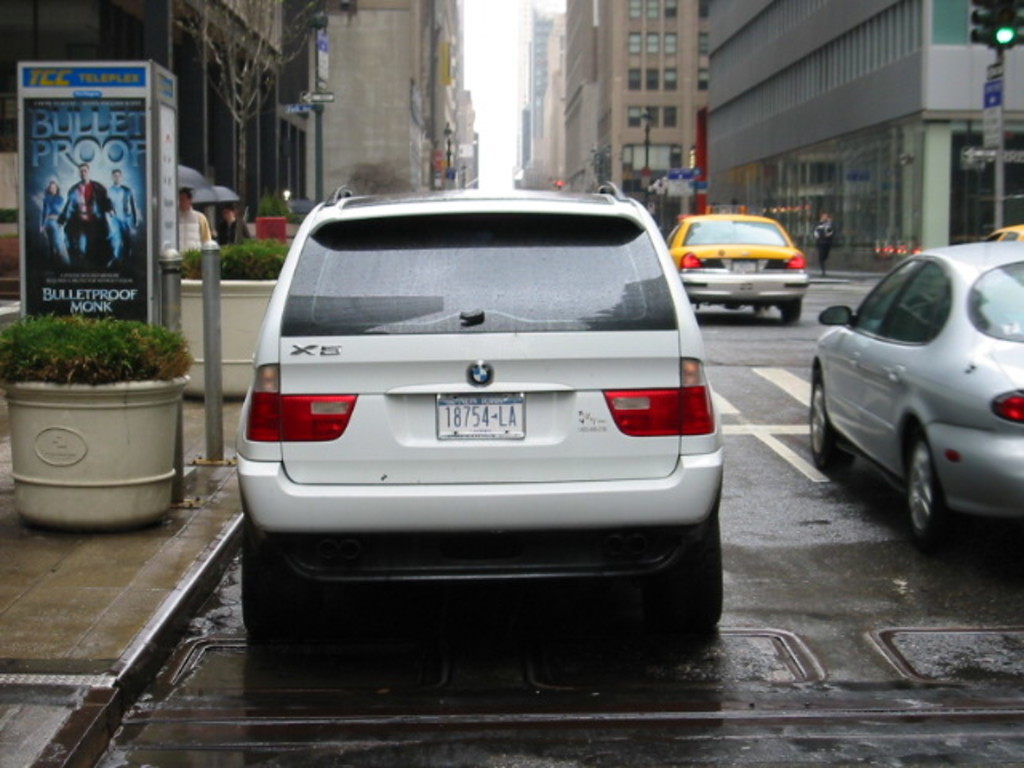Tree: (165, 0, 329, 245)
